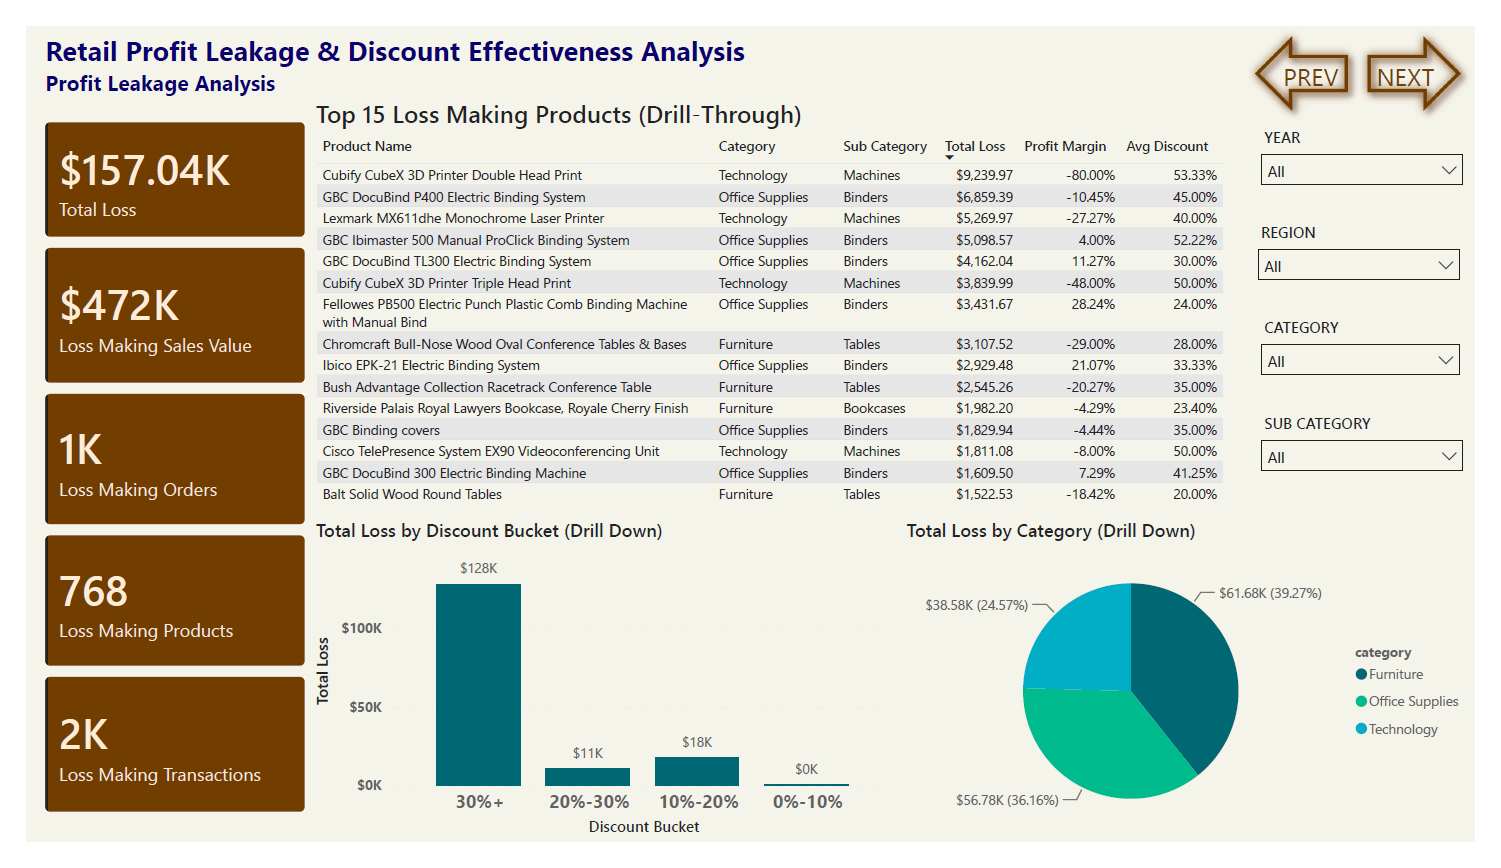

What the dashboard file says about the page in this screenshot:
{"tool":"powerbi","page":{"name":"Profit Leakage Analysis","canvas":[1280,720],"ordinal":1},"visuals":[{"type":"textbox","box":[11.6,0,648.2,80.4],"z":0},{"type":"cardVisual","fields":{"Data":["_Measures.Total Sales Associated with Losses"]},"box":[11.6,190.9,239.3,128.9],"z":1000},{"type":"cardVisual","fields":{"Data":["_Measures.Loss Making Product Count"]},"box":[11.6,444.8,239.3,125],"z":2000},{"type":"cardVisual","fields":{"Data":["_Measures.Loss Making Transaction Count"]},"box":[11.6,569.8,239.3,128.9],"z":3000},{"type":"cardVisual","fields":{"Data":["_Measures.Total Loss"]},"box":[11.6,80.4,239.3,110.5],"z":4000},{"type":"cardVisual","fields":{"Data":["_Measures.Loss Making Order Count"]},"box":[11.6,319.8,239.3,125],"z":5000},{"type":"slicer","fields":{"Values":["dim_date.year"]},"box":[1081,84,199,84],"z":6000},{"type":"slicer","fields":{"Values":["dim_product.sub_category"]},"box":[1081,337,199,81],"z":7000},{"type":"tableEx","title":"Top 15 Loss Making Products (Drill-Through)","fields":{"Values":["dim_product.product_name","dim_product.category","dim_product.sub_category","_Measures.Total Loss","_Measures.Profit Margin %","_Measures.Average Discount %"]},"box":[251,63,830,371],"z":8000},{"type":"columnChart","title":"Total Loss by Discount Bucket (Drill Down)","fields":{"Y":["_Measures.Total Loss"],"Category":["fact_sales.Discount Bucket","fact_sales.discount"]},"box":[251,434,522,286],"z":9000},{"type":"pieChart","title":"Total Loss by Category (Drill Down)","fields":{"Category":["dim_product.Product Hierarchy.category","dim_product.Product Hierarchy.sub_category"],"Y":["_Measures.Total Loss"]},"box":[773,434,507,286],"z":10000},{"type":"actionButton","box":[1176.9,0,100.2,83.6],"z":11000},{"type":"actionButton","box":[1077.5,0,99.8,84.3],"z":12000},{"type":"slicer","fields":{"Values":["dim_geography.region"]},"box":[1078,168,199,84],"z":13000},{"type":"slicer","fields":{"Values":["dim_product.category"]},"box":[1081,252,196,85],"z":14000}]}

Visuals, with their boxes in screenshot pixels (x1, y1, x2, y2), scaled from the page's 1280x720 canvas onto the 1501x868 screenshot:
textbox: 14, 0, 774, 97
cardVisual - _Measures.Total Sales Associated with Losses: 14, 230, 294, 386
cardVisual - _Measures.Loss Making Product Count: 14, 536, 294, 687
cardVisual - _Measures.Loss Making Transaction Count: 14, 687, 294, 842
cardVisual - _Measures.Total Loss: 14, 97, 294, 230
cardVisual - _Measures.Loss Making Order Count: 14, 386, 294, 536
slicer - dim_date.year: 1268, 101, 1500, 203
slicer - dim_product.sub_category: 1268, 406, 1500, 504
"Top 15 Loss Making Products (Drill-Through)" tableEx: 294, 76, 1268, 523
"Total Loss by Discount Bucket (Drill Down)" columnChart: 294, 523, 906, 867
"Total Loss by Category (Drill Down)" pieChart: 906, 523, 1500, 867
actionButton: 1380, 0, 1498, 101
actionButton: 1264, 0, 1381, 102
slicer - dim_geography.region: 1264, 203, 1497, 304
slicer - dim_product.category: 1268, 304, 1497, 406
